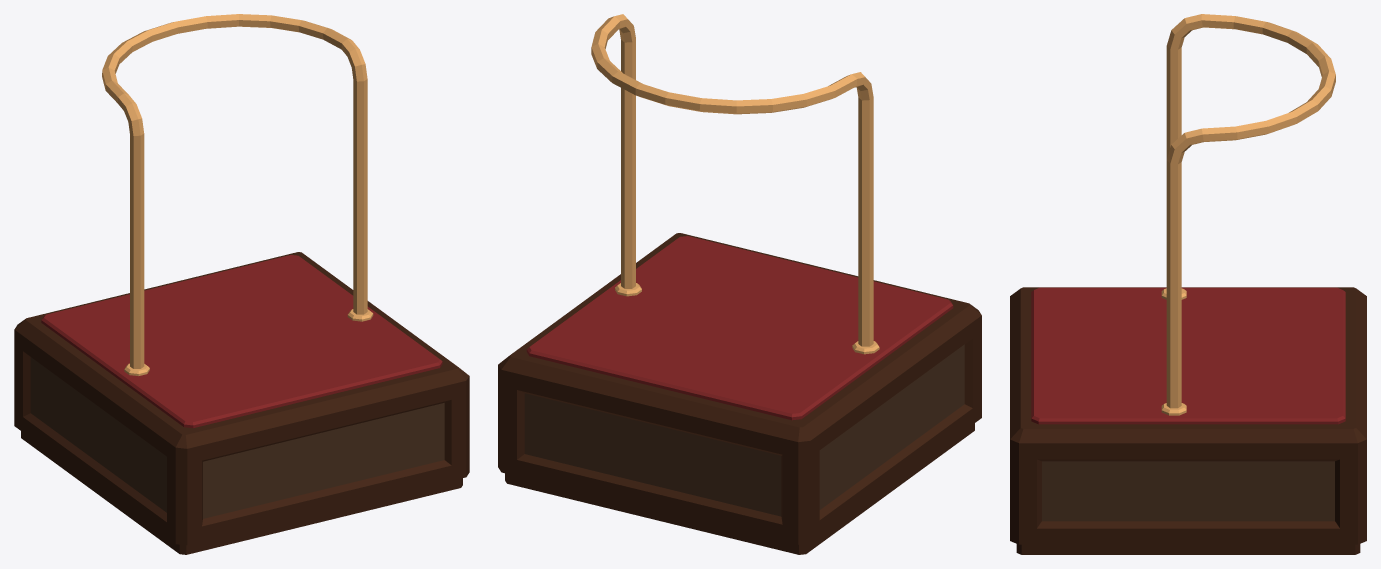
The model's file is conductor-s-podium-e53ba7.glb.
3 renders of one model, left to right at view 1: azimuth 30°, elevation 25°; view 2: azimuth 150°, elevation 25°; view 3: azimuth 270°, elevation 25°, orthographic. The views are drawn at different scales.
Visible parts, largest first — view 1: podium, podium-rail; view 2: podium, podium-rail; view 3: podium, podium-rail.
Part boxes in pixels (bbox=[...]): podium: bbox=[14, 252, 469, 554]; podium-rail: bbox=[102, 14, 373, 375]; podium: bbox=[498, 233, 981, 554]; podium-rail: bbox=[591, 14, 879, 354]; podium: bbox=[1010, 287, 1366, 554]; podium-rail: bbox=[1161, 14, 1335, 415].
Bounding box in the file's own units: 1 × 1.27 × 1.
